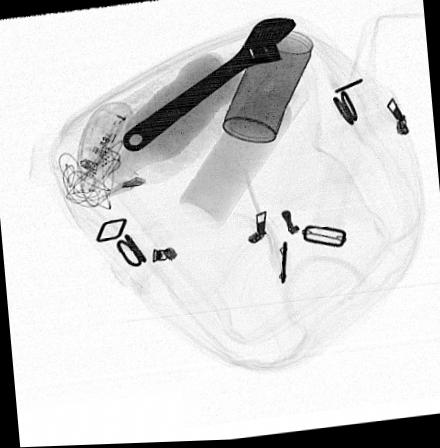Wrench: (117, 16, 296, 154)
